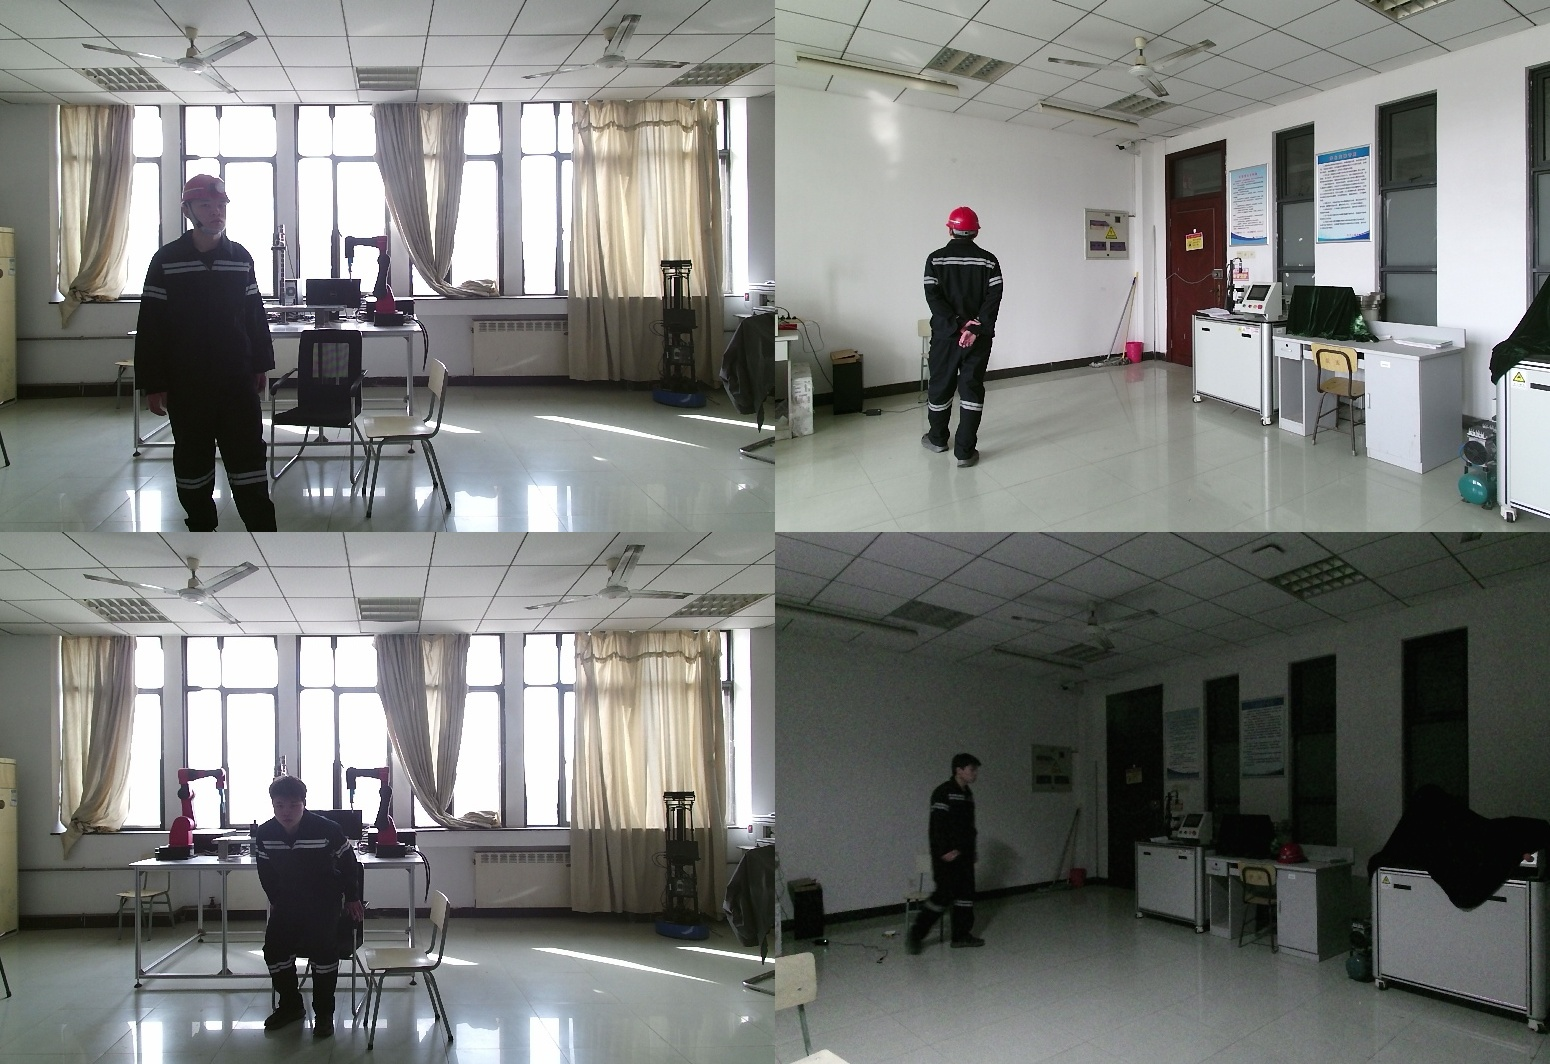person: (139, 176, 293, 532), (250, 780, 367, 1036), (918, 209, 1016, 466), (898, 755, 987, 968)
